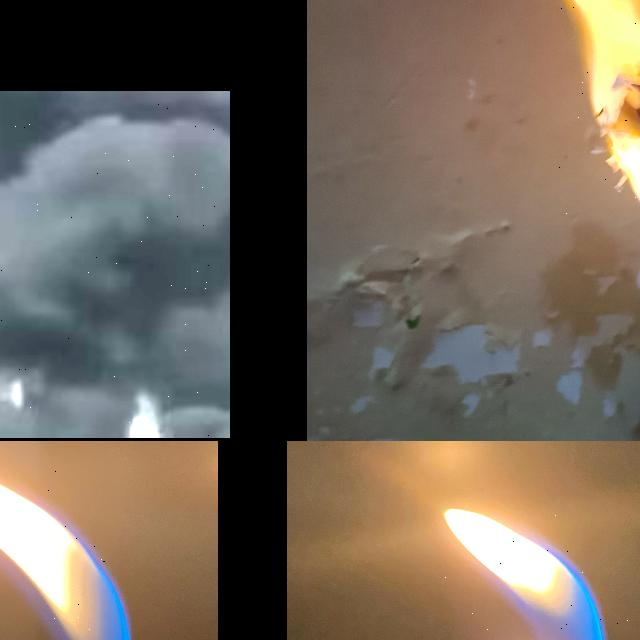fire: (445, 510, 607, 640), (0, 484, 131, 640), (567, 0, 640, 204)
smoke: (0, 92, 230, 436)
